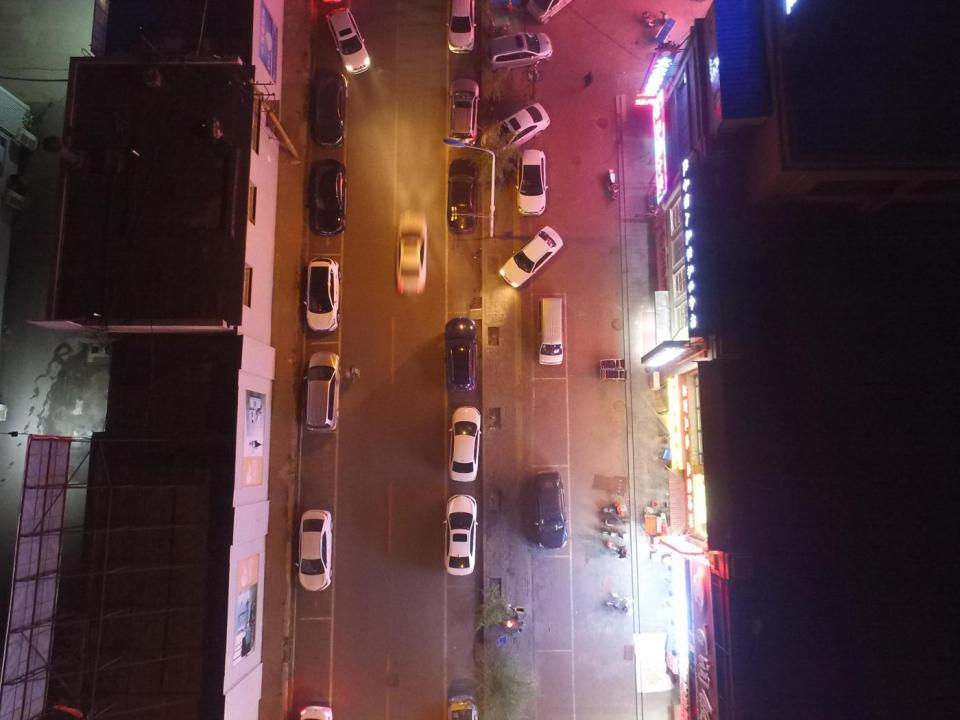car: (481, 103, 549, 156), (294, 510, 333, 592), (325, 8, 370, 73), (443, 495, 478, 576), (533, 470, 568, 550), (485, 32, 552, 73), (304, 258, 340, 330), (396, 210, 426, 295), (314, 159, 346, 235), (448, 406, 480, 482), (447, 158, 479, 232), (314, 72, 346, 144), (446, 80, 480, 146), (446, 0, 476, 54), (446, 695, 478, 720)
van: (499, 226, 562, 288), (304, 351, 340, 430), (444, 318, 478, 394), (515, 149, 548, 216), (537, 298, 566, 364), (526, 0, 574, 24)
